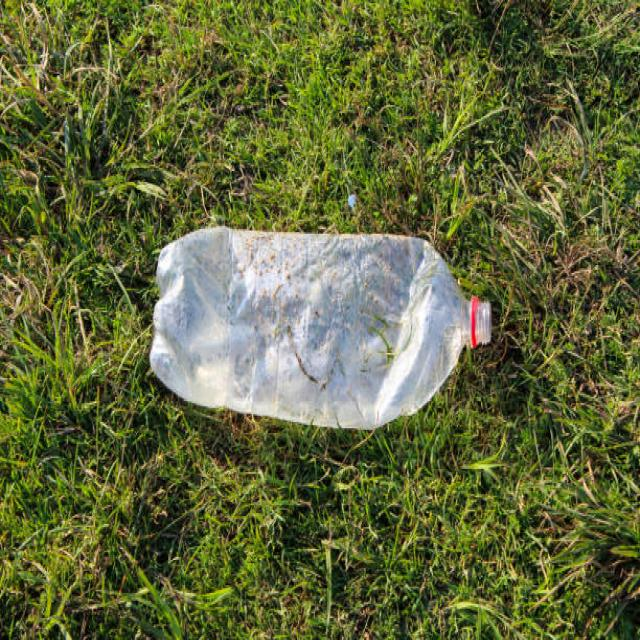plastic: (161, 230, 496, 430)
